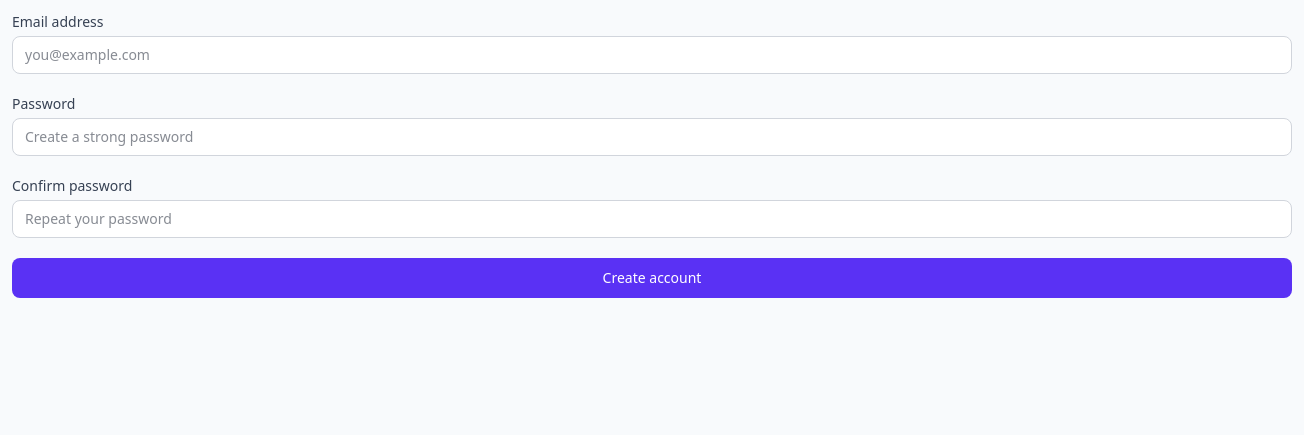
it: RegisterForm › renders password strength indicator when password is entered
Type "Abcdefg1" into the password field labelled "Password" at (652, 137), box 12,118 -> 1292,156
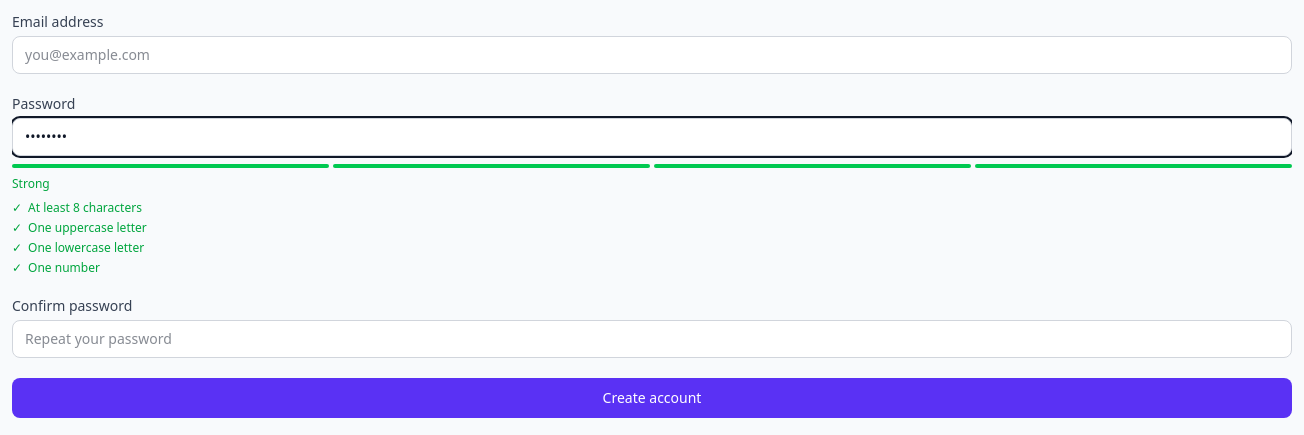
Expected: the text "Strong" is shown, 12,175 -> 50,192
